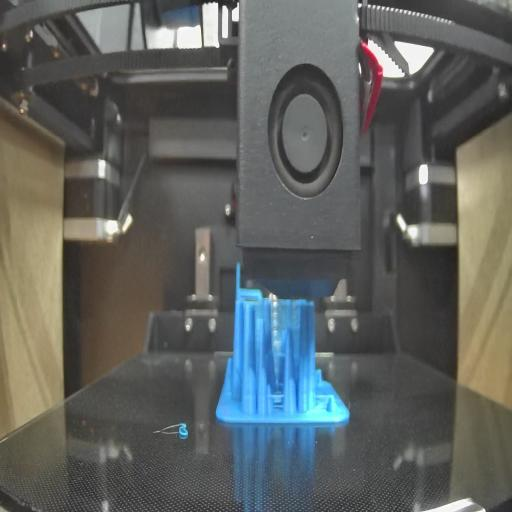stringing: (250, 299, 300, 331), (266, 387, 286, 410), (312, 389, 335, 404)
